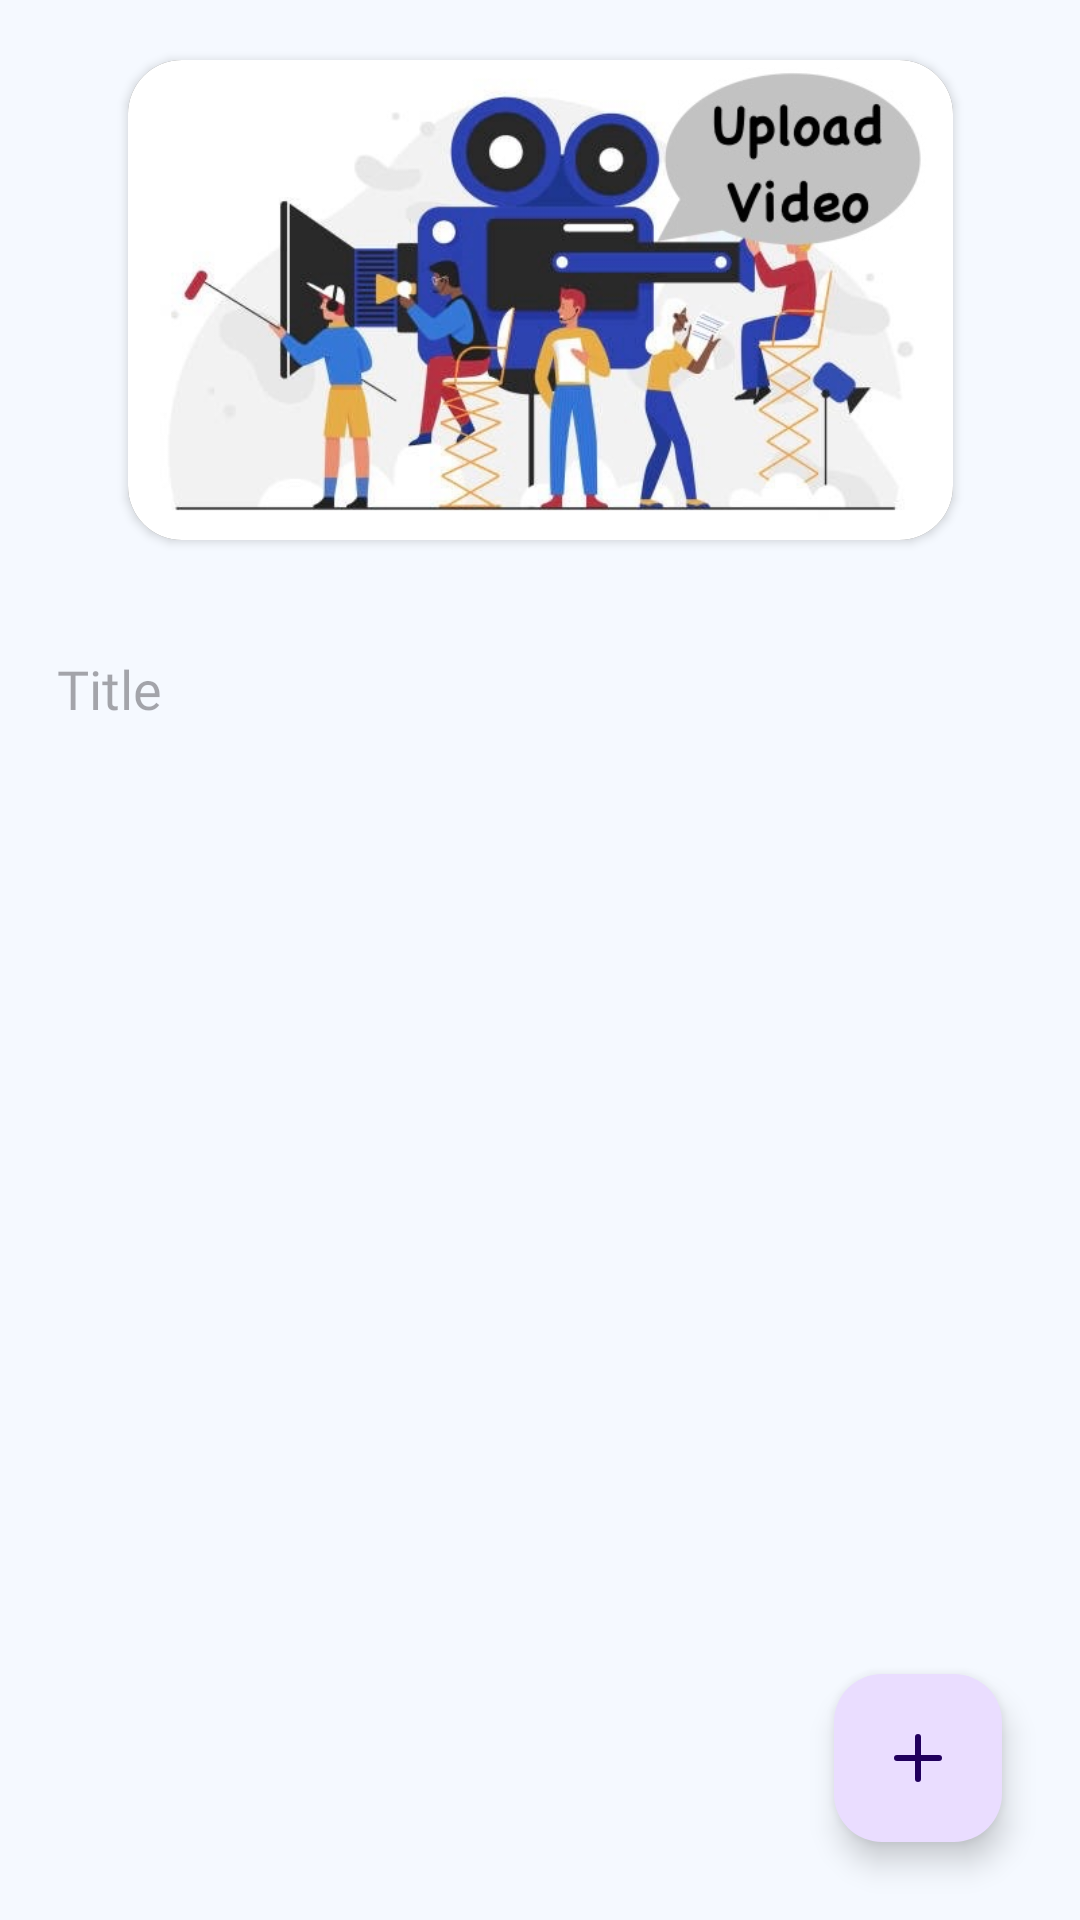

Icon click points for this 1080×1920 phone screenshot, format (x=x, y=y):
add: (x=918, y=1758)
